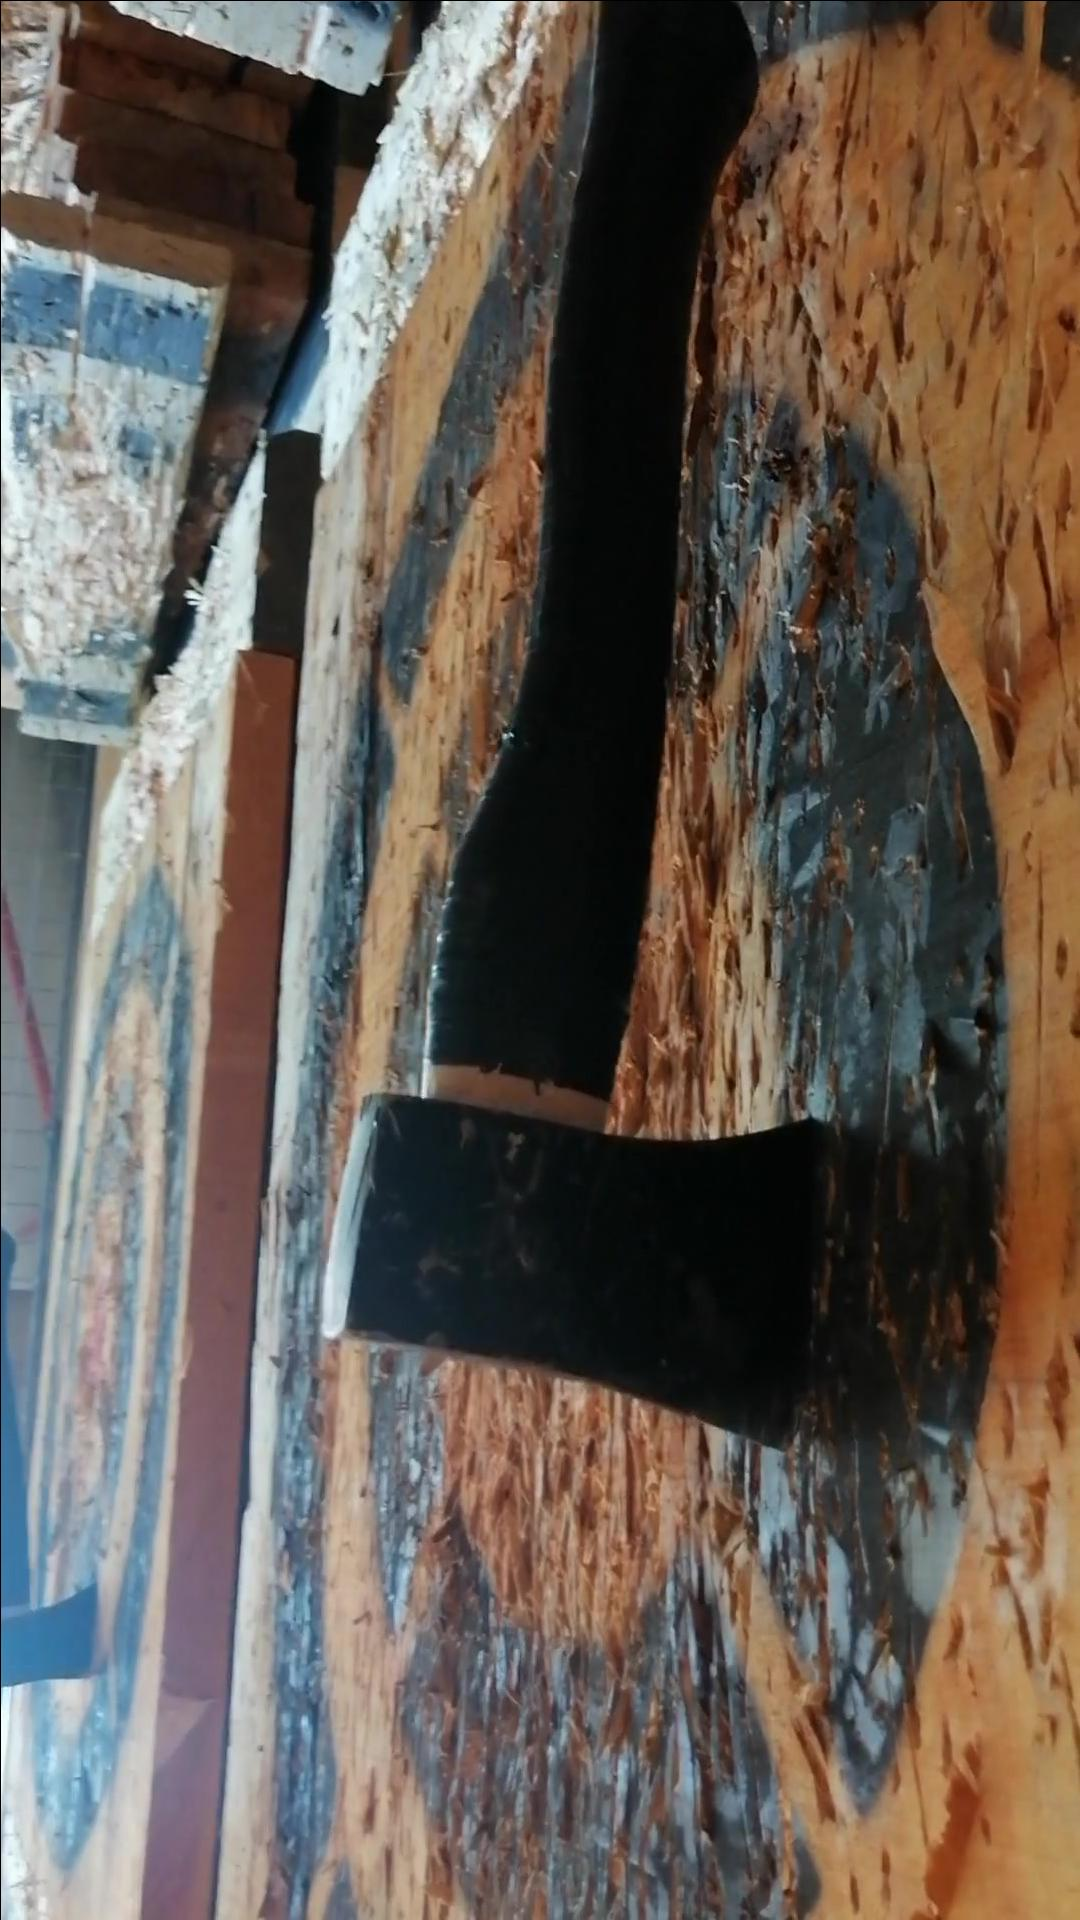Hand Axe: (326, 1091, 827, 1451)
